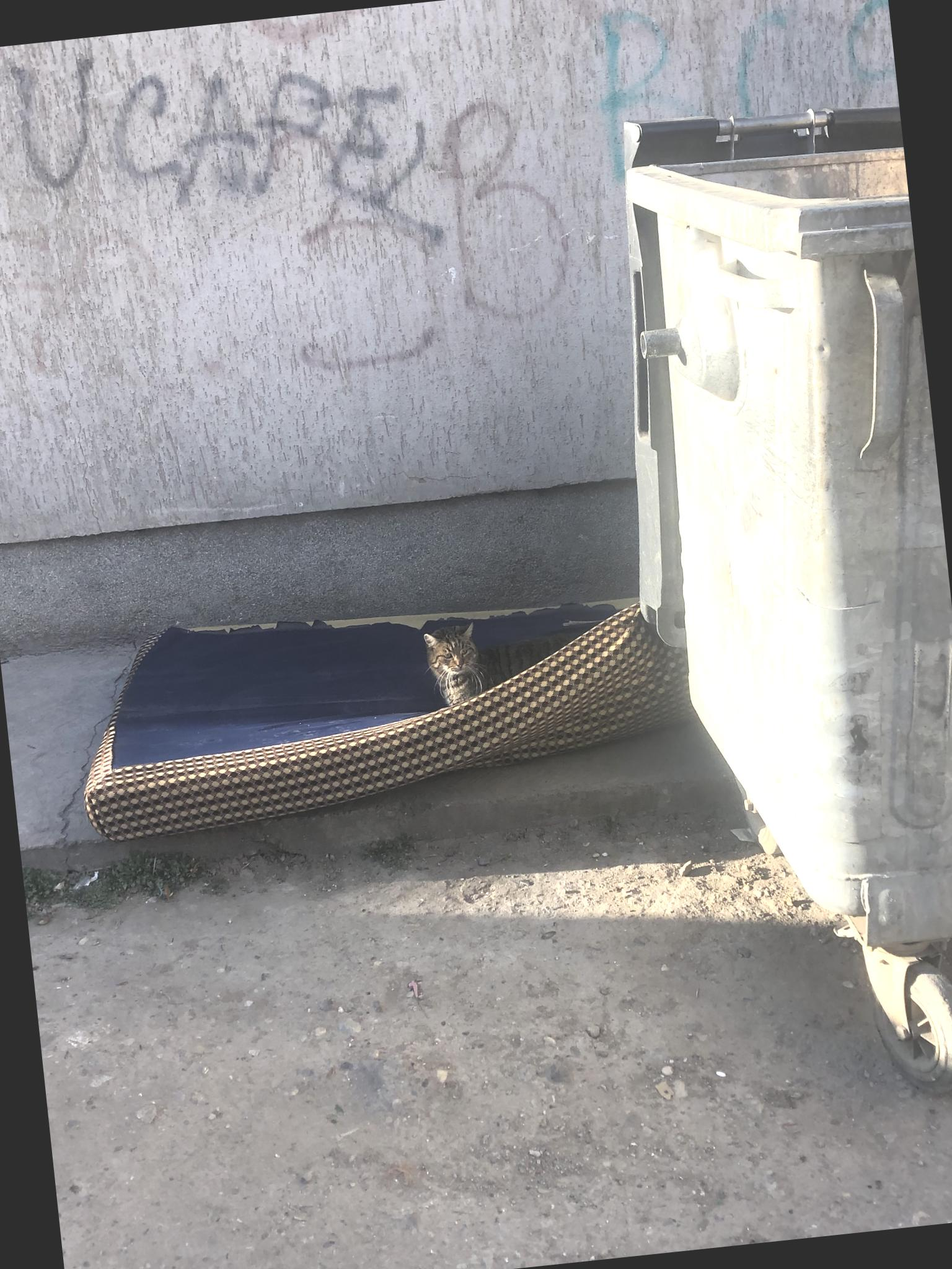macka: (421, 621, 487, 710)
